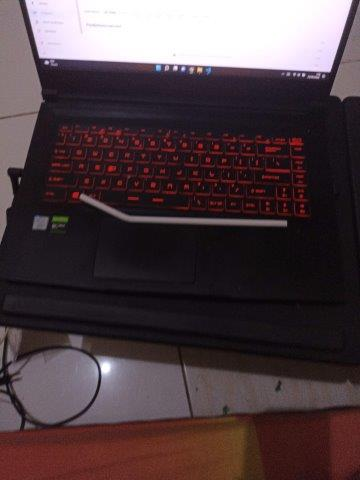sedotan: (79, 194, 287, 228)
